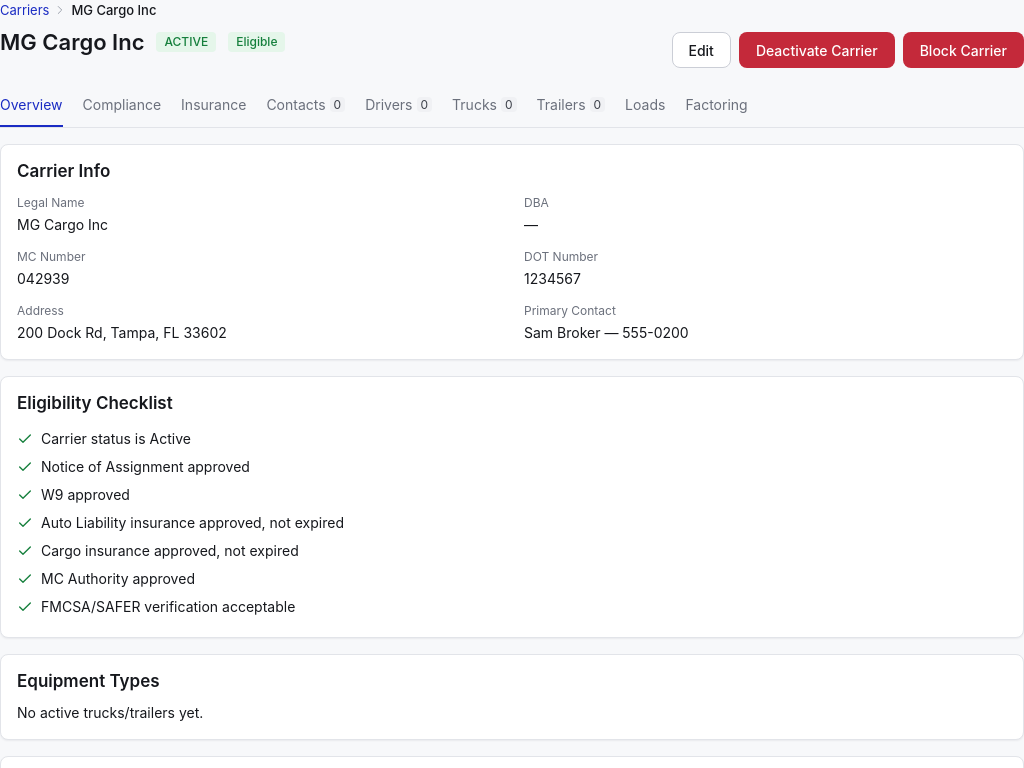
CarrierDetailPage — Edit/Save › loads and populates the edit form with the fetched carrier values
This screenshot has width=1024, height=768.
Expected: the heading "MG Cargo Inc" is shown, [0,32,144,52]
Click the button "Edit".
click(701, 50)  # box [672,32,731,68]
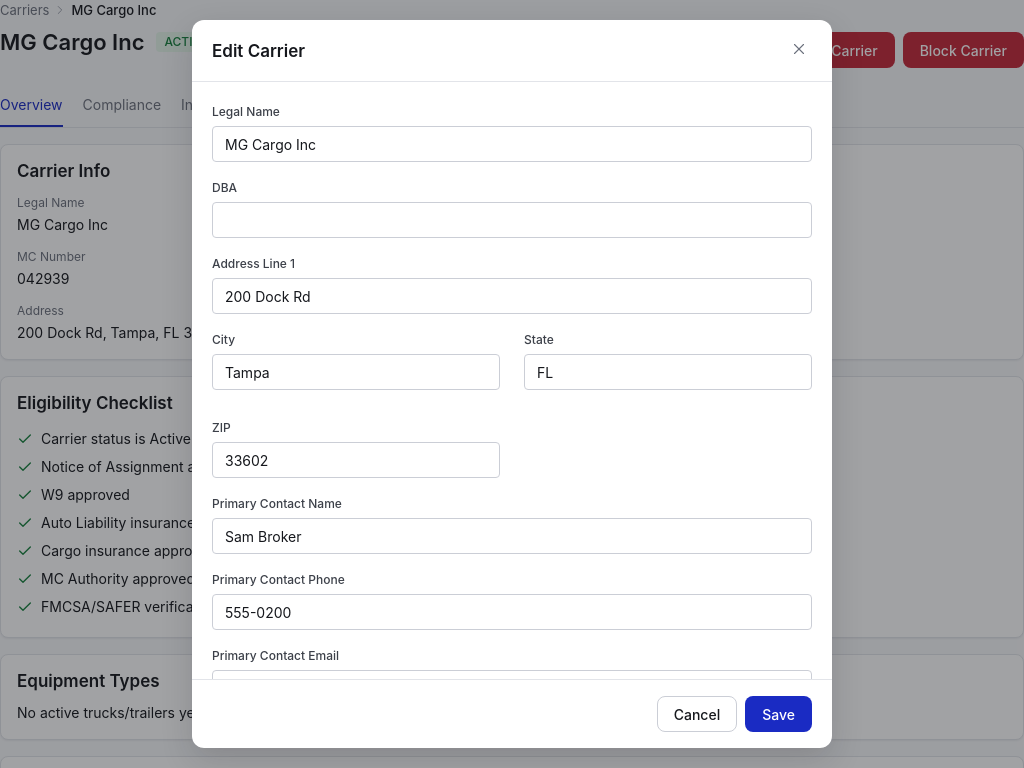
Now the field showing "MG Cargo Inc" is shown, box [212,126,812,162]
Now the field showing "200 Dock Rd" is shown, box [212,278,812,314]
